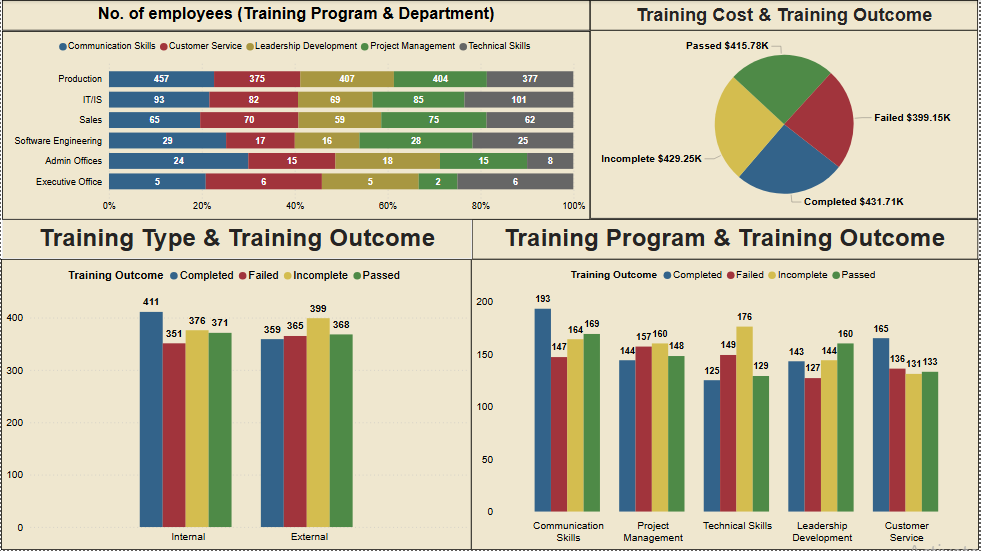

Layout of this report page (visuals, bound fields, positions):
{"tool":"powerbi","page":{"name":"Training and Development ","canvas":[1280,720],"ordinal":3},"visuals":[{"type":"clusteredColumnChart","fields":{"Y":["employee_data.No.of employees"],"Category":["training_and_development_data.Training Program Name"],"Series":["training_and_development_data.Training Outcome"]},"box":[615.1,339.4,664.9,381],"z":1000},{"type":"textbox","box":[615.7,286.5,664.2,52.9],"z":2002},{"type":"clusteredColumnChart","fields":{"Y":["employee_data.No.of employees"],"Category":["training_and_development_data.Training Type"],"Series":["training_and_development_data.Training Outcome"]},"box":[0,339.4,615.7,380.6],"z":2003},{"type":"textbox","box":[1.5,286.5,615.7,52.9],"z":2004},{"type":"pieChart","fields":{"Category":["training_and_development_data.Training Outcome"],"Y":["Sum(training_and_development_data.Training Cost)"]},"box":[771.4,39.7,508.4,246.9],"z":2005},{"type":"textbox","box":[771.4,0,508.4,39.7],"z":2006},{"type":"hundredPercentStackedBarChart","fields":{"Category":["employee_data.DepartmentType"],"Y":["employee_data.No.of employees"],"Series":["training_and_development_data.Training Program Name"]},"box":[1.4,40.2,770.2,246.6],"z":2007},{"type":"textbox","box":[1.4,0,770.2,40.2],"z":2008}]}

Visuals, with their boxes in screenshot pixels (x1, y1, x2, y2), scaled from the page's 1280x720 canvas onto the 981x551 screenshot:
clusteredColumnChart - employee_data.No.of employees x training_and_development_data.Training Program Name: x1=471, y1=260, x2=980, y2=550
textbox: x1=472, y1=219, x2=980, y2=260
clusteredColumnChart - employee_data.No.of employees x training_and_development_data.Training Type: x1=0, y1=260, x2=472, y2=550
textbox: x1=1, y1=219, x2=473, y2=260
pieChart - training_and_development_data.Training Outcome x Sum(training_and_development_data.Training Cost): x1=591, y1=30, x2=980, y2=219
textbox: x1=591, y1=0, x2=980, y2=30
hundredPercentStackedBarChart - employee_data.DepartmentType x employee_data.No.of employees: x1=1, y1=31, x2=591, y2=219
textbox: x1=1, y1=0, x2=591, y2=31
